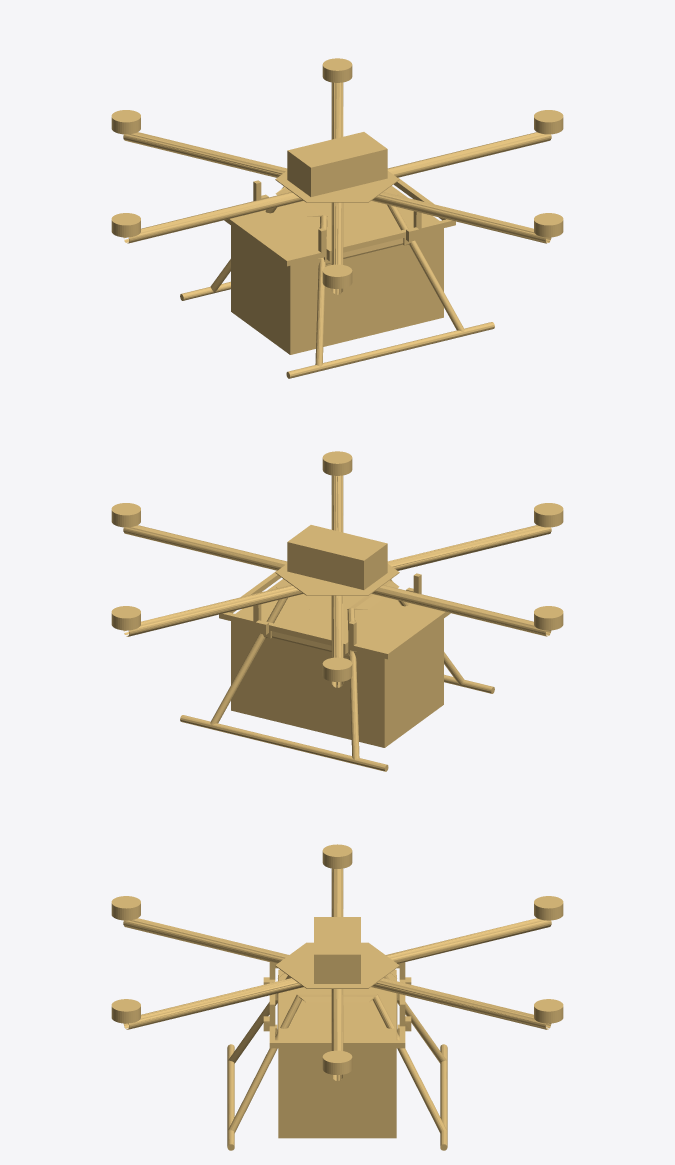
Rendered from wyvern.glb.
3 renders of one model, top to bottom at view 1: azimuth 30°, elevation 25°; view 2: azimuth 150°, elevation 25°; view 3: azimuth 270°, elevation 25°, orthographic.
Parts seen in each view (by area): view 1: body; view 2: body; view 3: body.
Part boxes in pixels (x1=…): body: x1=111, y1=58, x2=563, y2=378; body: x1=111, y1=451, x2=563, y2=771; body: x1=111, y1=844, x2=563, y2=1150.
Size of the model in its own units: 2.41 by 0.616 by 2.19.
